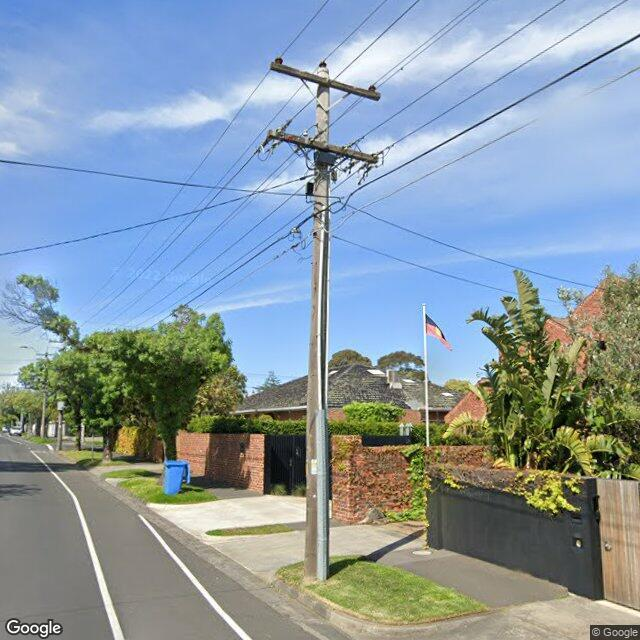HV-transmission: (270, 55, 382, 101)
crossarm: (254, 118, 395, 186), (269, 61, 381, 102)
streetlight: (20, 346, 44, 360)
timber-pole: (302, 70, 333, 579), (40, 352, 48, 439)
